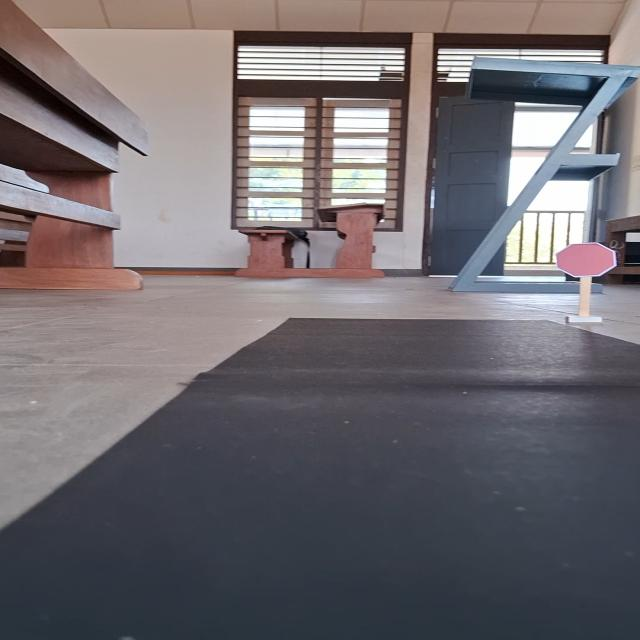Stop: (553, 242, 620, 278)
